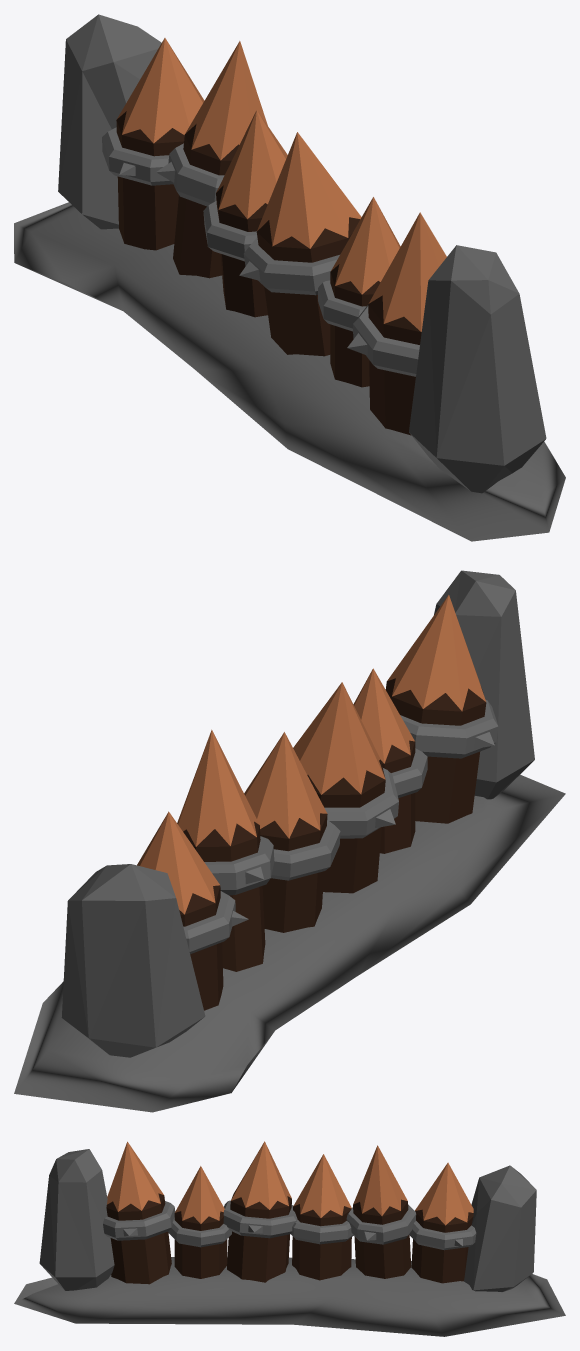
Rendered from barricade.fbx.
3 views of the same model, one above another, from view 1: azimuth 30°, elevation 25°; view 2: azimuth 150°, elevation 25°; view 3: azimuth 270°, elevation 25° (orthographic). The views are drawn at different scales.
Visible parts, largest first — view 1: Cube; view 2: Cube; view 3: Cube.
Part boxes in pixels (x1,y1,x2,y2): Cube: (14, 14, 565, 541); Cube: (14, 570, 565, 1112); Cube: (14, 1141, 565, 1336).
Size of the model in its own units: 401 by 428 by 1353.
